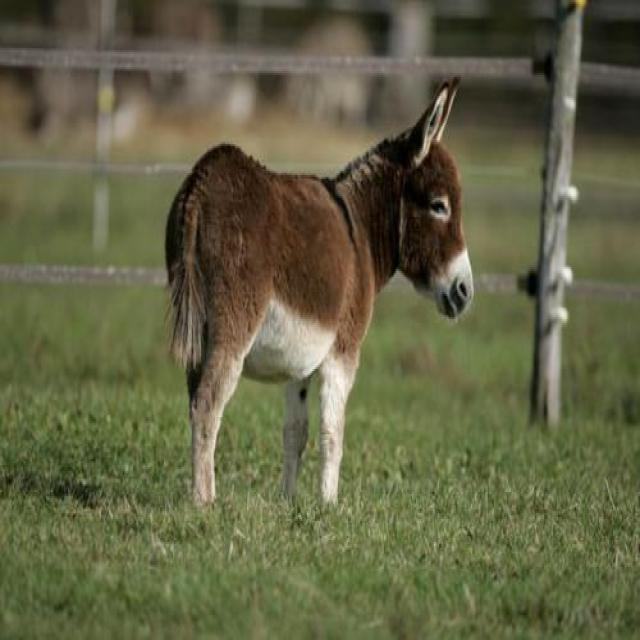Donkey: (166, 76, 474, 508)
